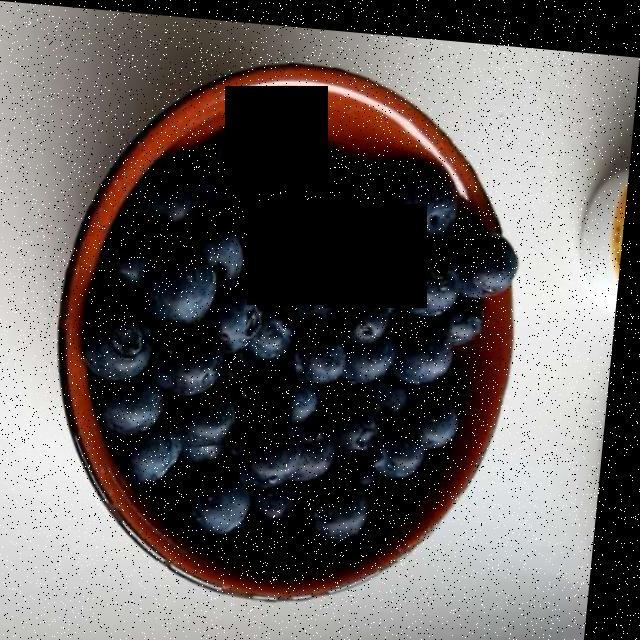blueberries: (101, 118, 508, 569)
